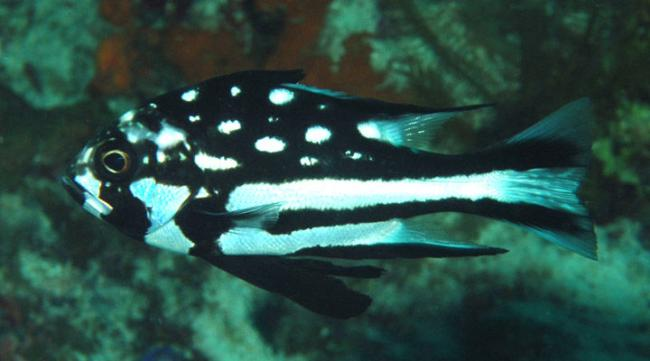fish: (63, 69, 600, 318)
